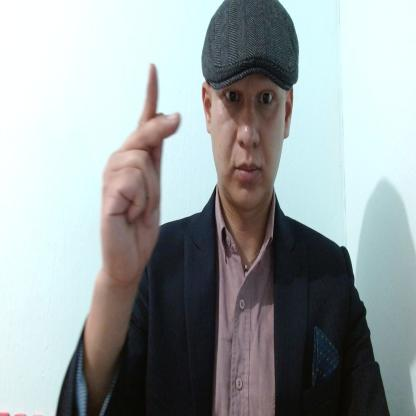P: (96, 60, 184, 291)
